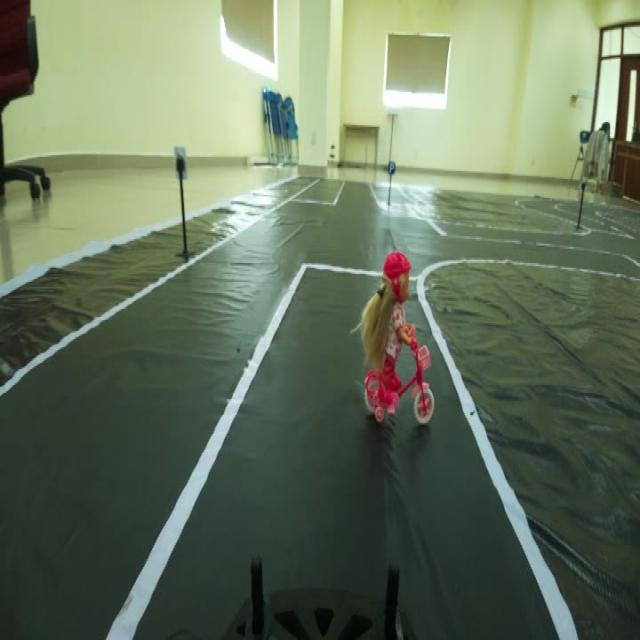pedestrian: (353, 250, 442, 436)
